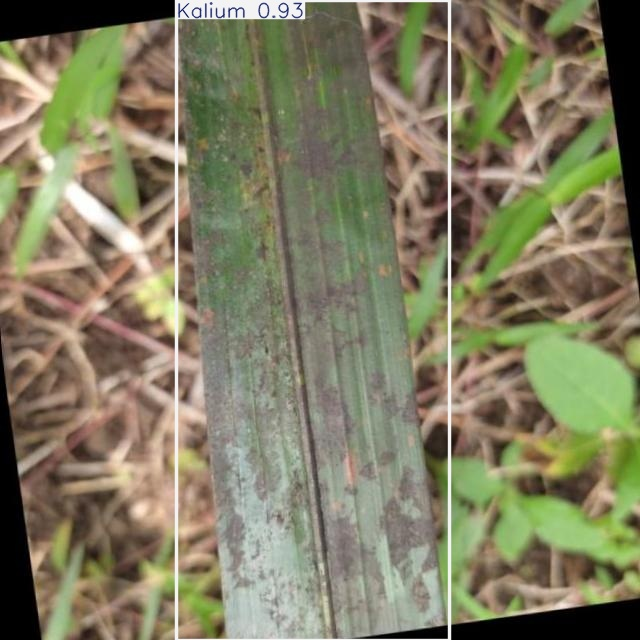Kalium: (177, 0, 449, 640)
